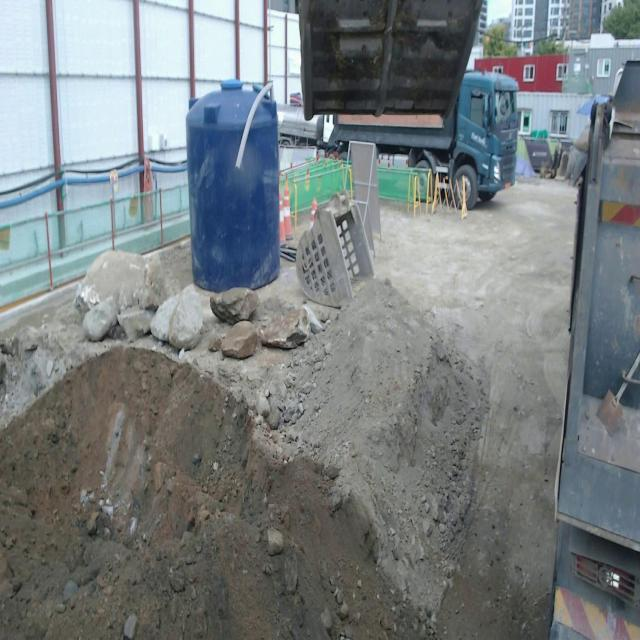red-sand: (0, 186, 575, 639)
rocks: (196, 350, 314, 463)
stone: (74, 251, 169, 341), (150, 284, 203, 349), (260, 307, 310, 349), (210, 287, 259, 324), (220, 321, 258, 359)
